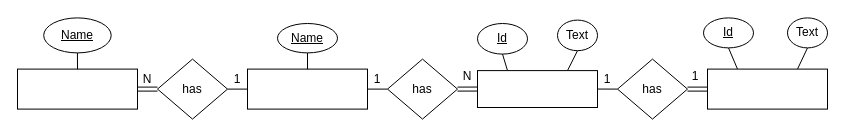
Some shapes in this 845 by 137 pixel diagram are drawn without their labels. The shapes that lost their labels are listed below. From the top down, each one's box as (x1, y1, x2, y2) in pixels, then its label:
(16, 68, 138, 109): FTC
(246, 68, 368, 109): ManualEntry
(476, 70, 598, 108): EntryExamples
(706, 68, 828, 109): Criteria
